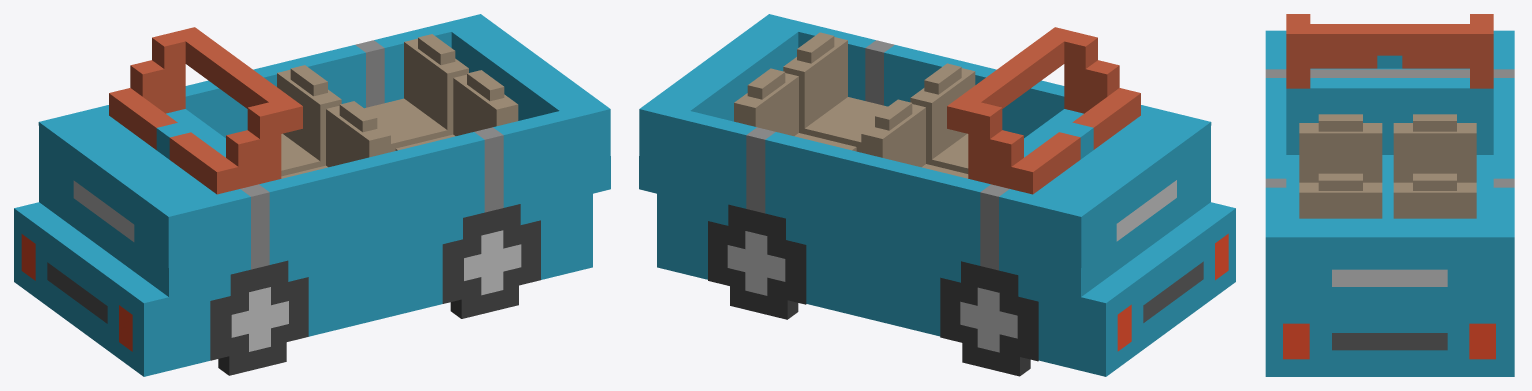
Rendered from Car_2.FBX.
The picture shows the model from 3 angles, left to right: view 1: azimuth 30°, elevation 25°; view 2: azimuth 150°, elevation 25°; view 3: azimuth 270°, elevation 25°; orthographic projection. The views are drawn at different scales.
Visible parts, largest first — view 1: Car_2; view 2: Car_2; view 3: Car_2.
Part boxes in pixels (x1=…): Car_2: x1=14, y1=14, x2=610, y2=376; Car_2: x1=639, y1=14, x2=1235, y2=376; Car_2: x1=1265, y1=14, x2=1514, y2=376.
Bounding box in the file's own units: 30.78 × 15.16 × 14.99.
1 material, 1 textured.
